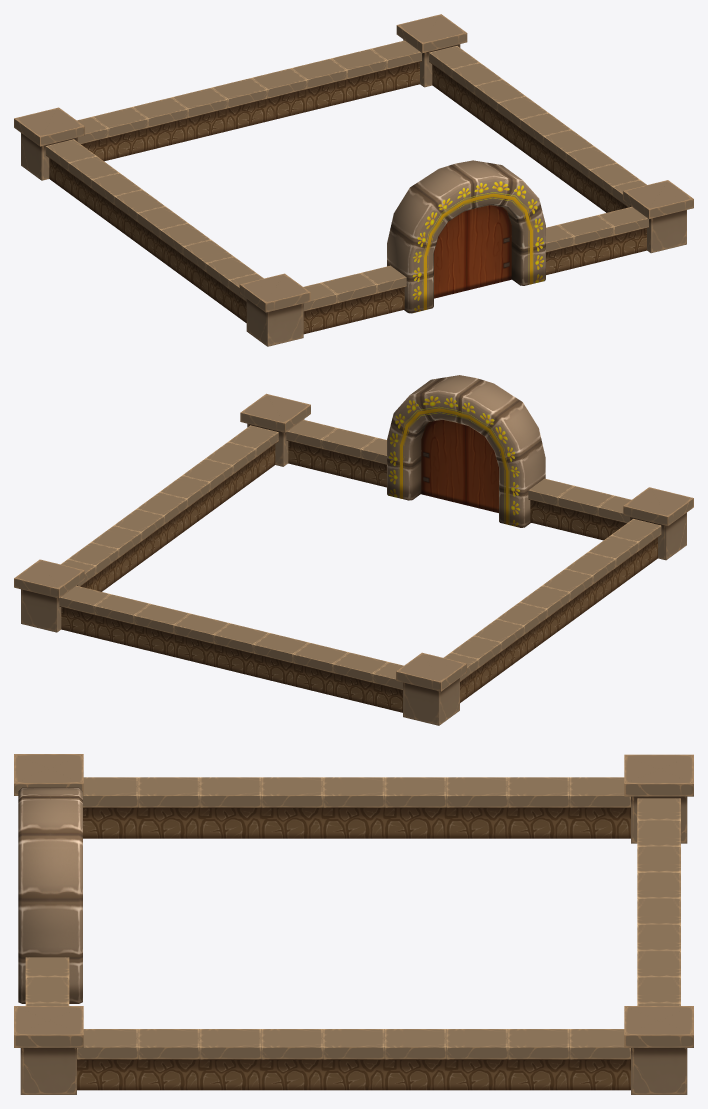
File: Gate_01.FBX
3 views of the same model, one above another, from view 1: azimuth 30°, elevation 25°; view 2: azimuth 150°, elevation 25°; view 3: azimuth 270°, elevation 25° (orthographic). The views are drawn at different scales.
Visible parts, largest first — view 1: Gate_01; view 2: Gate_01; view 3: Gate_01.
Part boxes in pixels (bbox=[...]): Gate_01: bbox=[14, 14, 693, 346]; Gate_01: bbox=[14, 375, 693, 725]; Gate_01: bbox=[14, 754, 693, 1094].
Bounding box in the file's own units: 268 × 70.43 × 274.
